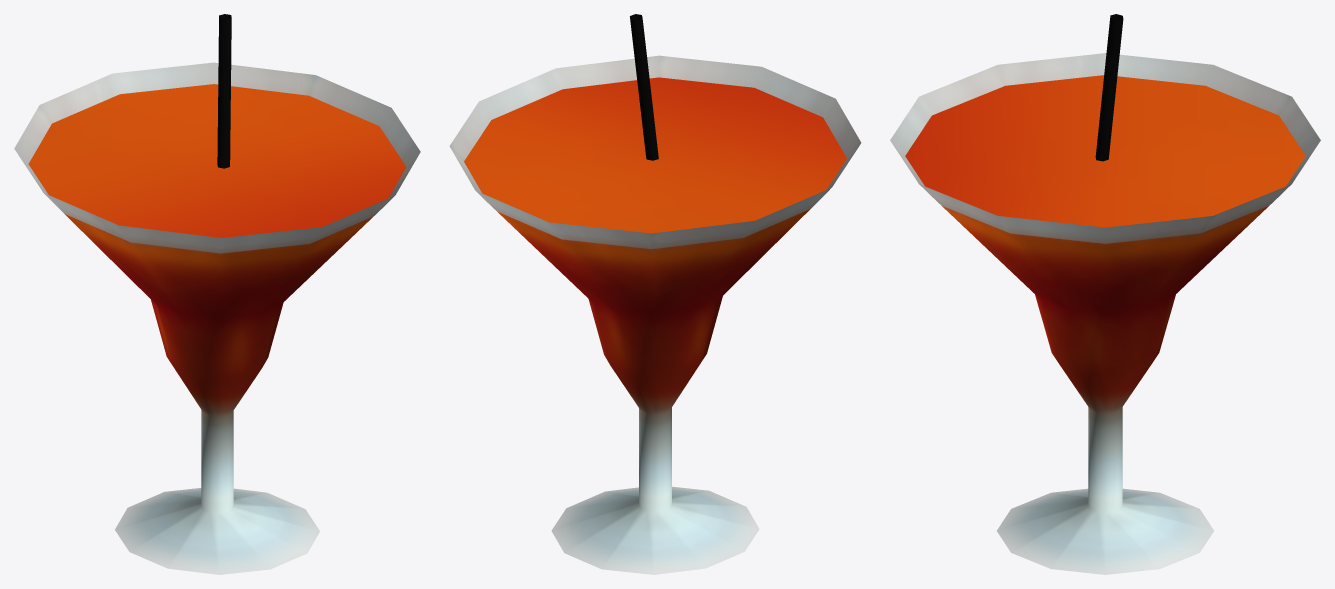
Rendered from Drink3.fbx.
The picture shows the model from 3 angles, left to right: view 1: azimuth 30°, elevation 25°; view 2: azimuth 150°, elevation 25°; view 3: azimuth 270°, elevation 25°; orthographic projection. The views are drawn at different scales.
Visible parts, largest first — view 1: Empty_Mesh; view 2: Empty_Mesh; view 3: Empty_Mesh.
Part boxes in pixels (x1=…): Empty_Mesh: x1=14, y1=14, x2=420, y2=574; Empty_Mesh: x1=449, y1=14, x2=861, y2=574; Empty_Mesh: x1=890, y1=14, x2=1320, y2=574.
Size of the model in its own units: 11.5 by 16 by 12.
